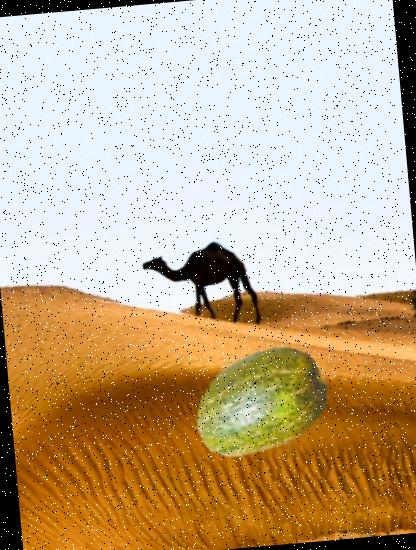Melon: (190, 334, 340, 483)
